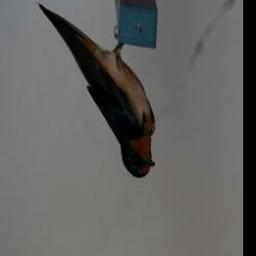Swallow: (36, 0, 159, 183)
